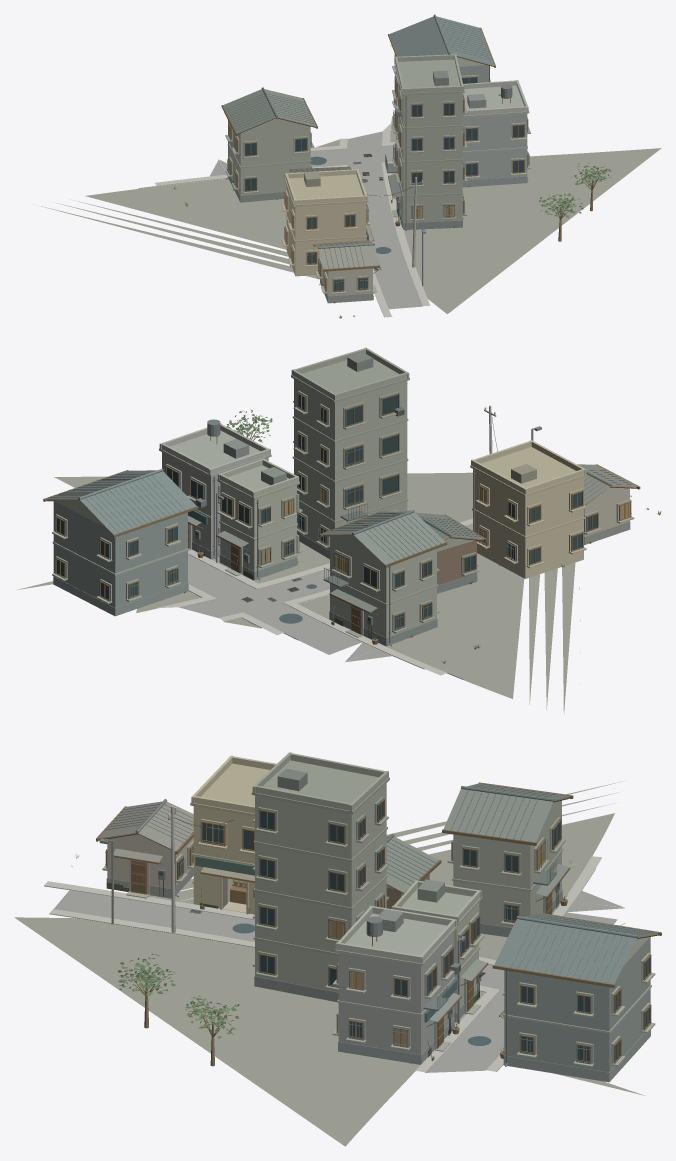
File: street_5_2.glb
The picture shows the model from 3 angles, top to bottom: view 1: azimuth 30°, elevation 25°; view 2: azimuth 150°, elevation 25°; view 3: azimuth 270°, elevation 25°; orthographic projection. The views are drawn at different scales.
Parts seen in each view (by area): view 1: ground.035, plaster.021, trim.021, road.057, roof_metal.021, wood.021, roof_tile.014, concrete.023, metal.021, glass.021, paving.025, graybrick.020 (+1 smaller); view 2: plaster.021, ground.035, trim.021, graybrick.020, wood.021, roof_metal.021, road.057, glass.021, roof_tile.014, metal.021, paving.025, concrete.023 (+2 smaller); view 3: ground.035, plaster.021, trim.021, graybrick.020, roof_metal.021, wood.021, road.057, roof_tile.014, concrete.023, metal.021, glass.021, paving.025 (+4 smaller).
Part boxes in pixels (x1=…): ground.035: x1=38, y1=116, x2=661, y2=314; plaster.021: x1=229, y1=54, x2=528, y2=296; trim.021: x1=225, y1=59, x2=530, y2=294; road.057: x1=210, y1=131, x2=422, y2=309; roof_metal.021: x1=223, y1=70, x2=486, y2=268; wood.021: x1=221, y1=27, x2=600, y2=292; roof_tile.014: x1=261, y1=14, x2=494, y2=248; concrete.023: x1=412, y1=113, x2=527, y2=267; metal.021: x1=225, y1=65, x2=529, y2=291; glass.021: x1=229, y1=76, x2=523, y2=291; paving.025: x1=138, y1=123, x2=430, y2=317; graybrick.020: x1=228, y1=65, x2=527, y2=303; plaster.021: x1=55, y1=347, x2=629, y2=637; ground.035: x1=17, y1=472, x2=580, y2=713; trim.021: x1=52, y1=359, x2=634, y2=637; graybrick.020: x1=53, y1=501, x2=630, y2=646; wood.021: x1=43, y1=392, x2=640, y2=634; roof_metal.021: x1=188, y1=352, x2=637, y2=612; road.057: x1=180, y1=524, x2=472, y2=662; glass.021: x1=56, y1=394, x2=597, y2=628; roof_tile.014: x1=45, y1=468, x2=612, y2=537; metal.021: x1=130, y1=406, x2=634, y2=646; paving.025: x1=156, y1=495, x2=631, y2=679; concrete.023: x1=162, y1=405, x2=492, y2=551; ground.035: x1=14, y1=781, x2=645, y2=1146; plaster.021: x1=107, y1=752, x2=649, y2=1012; trim.021: x1=102, y1=760, x2=655, y2=1067; graybrick.020: x1=106, y1=869, x2=650, y2=1082; roof_metal.021: x1=98, y1=768, x2=571, y2=1021; wood.021: x1=96, y1=782, x2=661, y2=1066; road.057: x1=54, y1=890, x2=624, y2=1072; roof_tile.014: x1=135, y1=786, x2=659, y2=984; concrete.023: x1=171, y1=806, x2=454, y2=1054; metal.021: x1=99, y1=783, x2=590, y2=1066; glass.021: x1=159, y1=802, x2=649, y2=1062; paving.025: x1=44, y1=846, x2=601, y2=1072.
Size of the model in its own units: 52.74 by 13.42 by 38.2.
